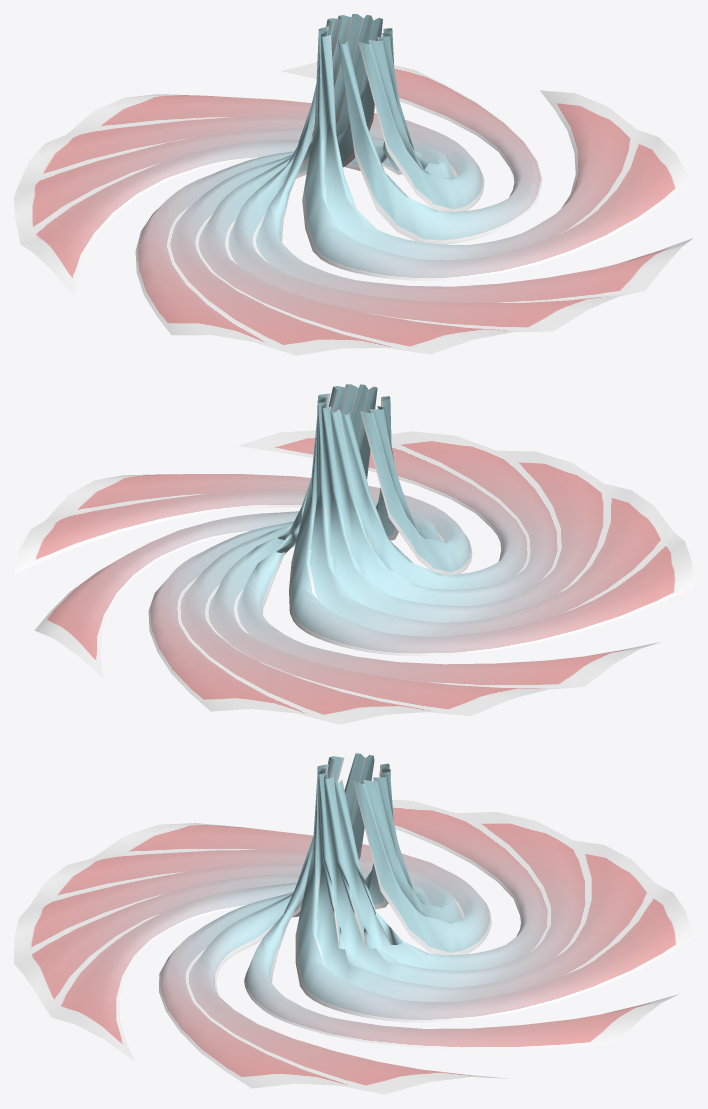
The model's file is bottom_swirl.glb.
3 renders of one model, top to bottom at view 1: azimuth 30°, elevation 25°; view 2: azimuth 150°, elevation 25°; view 3: azimuth 270°, elevation 25°, orthographic.
Parts seen in each view (by area): view 1: bottom_swirl; view 2: bottom_swirl; view 3: bottom_swirl.
Boxes of the visible parts, box(x1,y1,x2,y2) form: bottom_swirl: box(14, 14, 693, 355); bottom_swirl: box(14, 384, 693, 724); bottom_swirl: box(14, 753, 693, 1094).
Size of the model in its own units: 30.13 by 9.01 by 30.13.
Materials: 1 (1 with a texture image).
